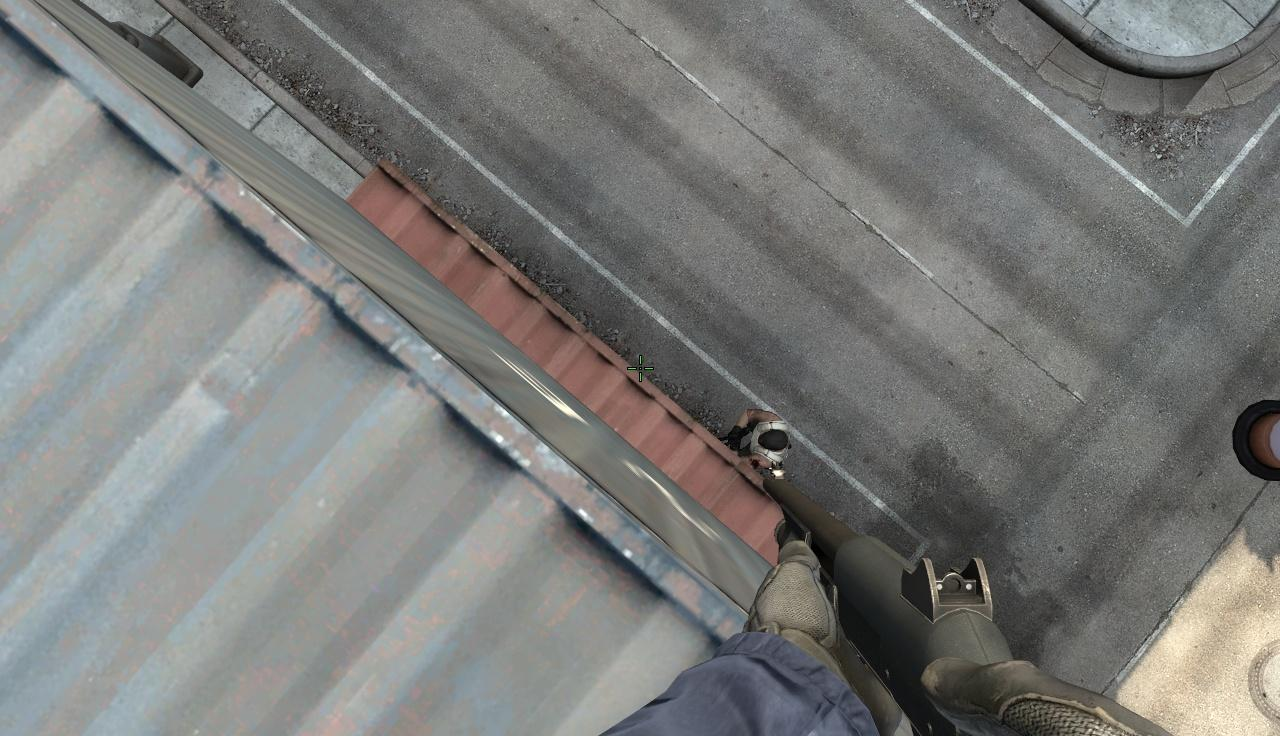shotgun: (762, 480, 1130, 736)
tt: (735, 408, 791, 469)
tthead: (757, 429, 788, 450)
